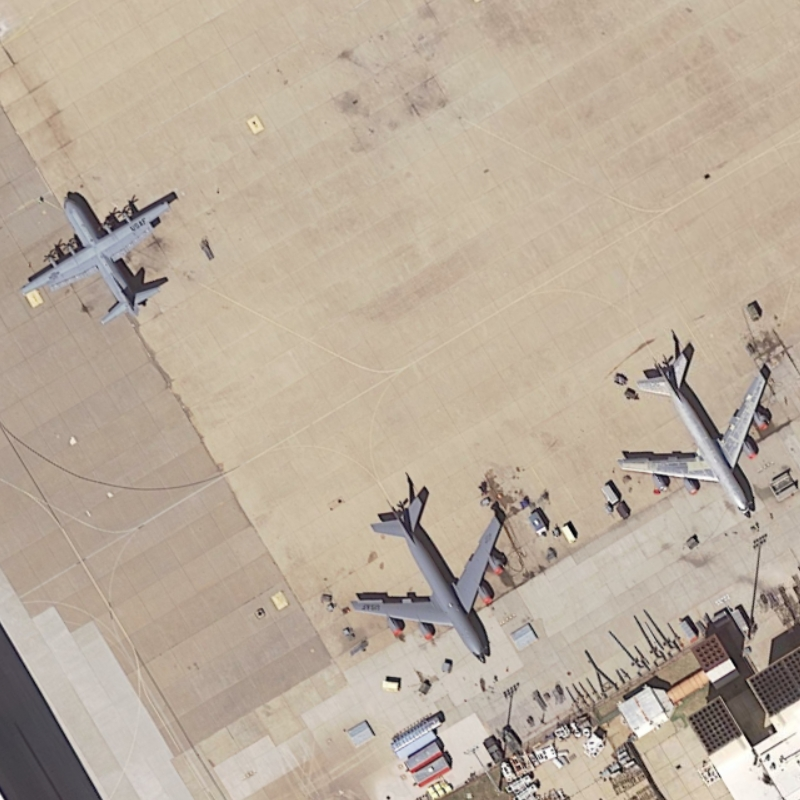A14: (347, 480, 519, 667), (609, 340, 774, 530)
A2: (15, 181, 193, 336)
